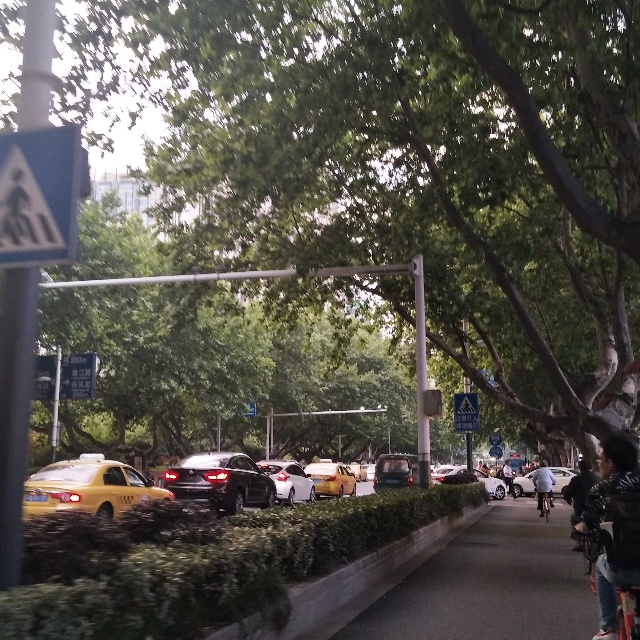crosswalk: (1, 137, 61, 255), (458, 393, 477, 420)
